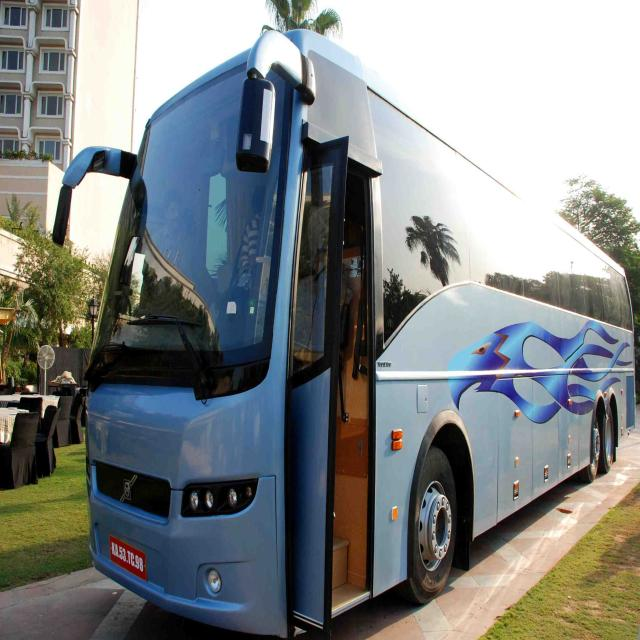bus: (54, 30, 635, 637)
